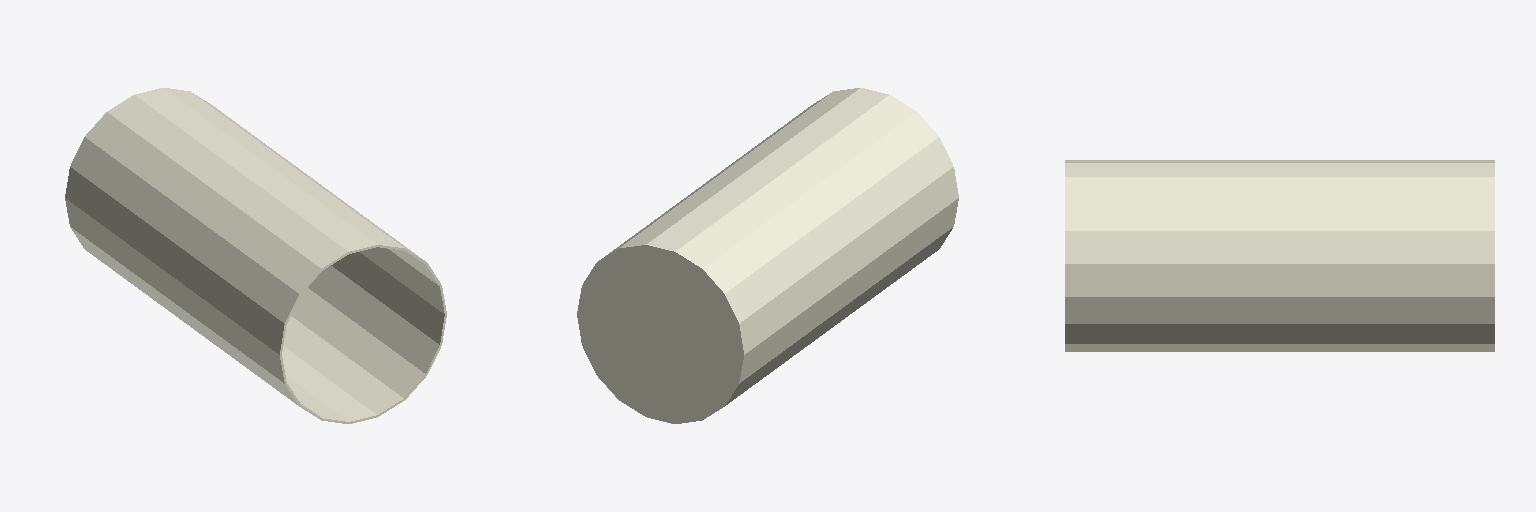
File: pendant-cover-Body.obj
3 renders of one model, left to right at view 1: azimuth 30°, elevation 25°; view 2: azimuth 150°, elevation 25°; view 3: azimuth 270°, elevation 25°, orthographic.
Parts seen in each view (by area): view 1: Body; view 2: Body; view 3: Body.
Boxes of the visible parts, box(x1,y1,x2,y2) form: Body: box(65, 88, 446, 423); Body: box(577, 88, 958, 423); Body: box(1065, 160, 1494, 351).
Bounding box in the file's own units: 90 × 88.63 × 200.